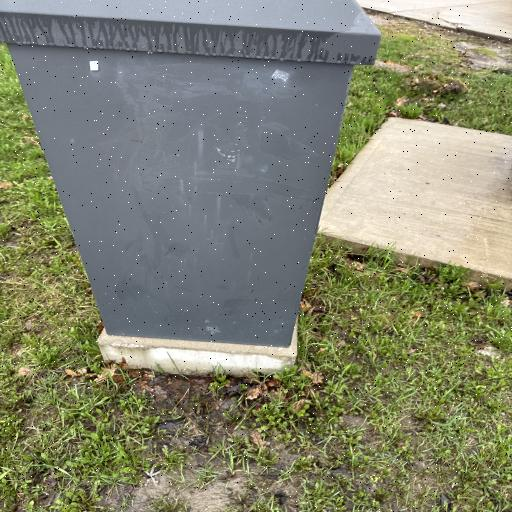Electrical Box: (0, 1, 383, 374)
